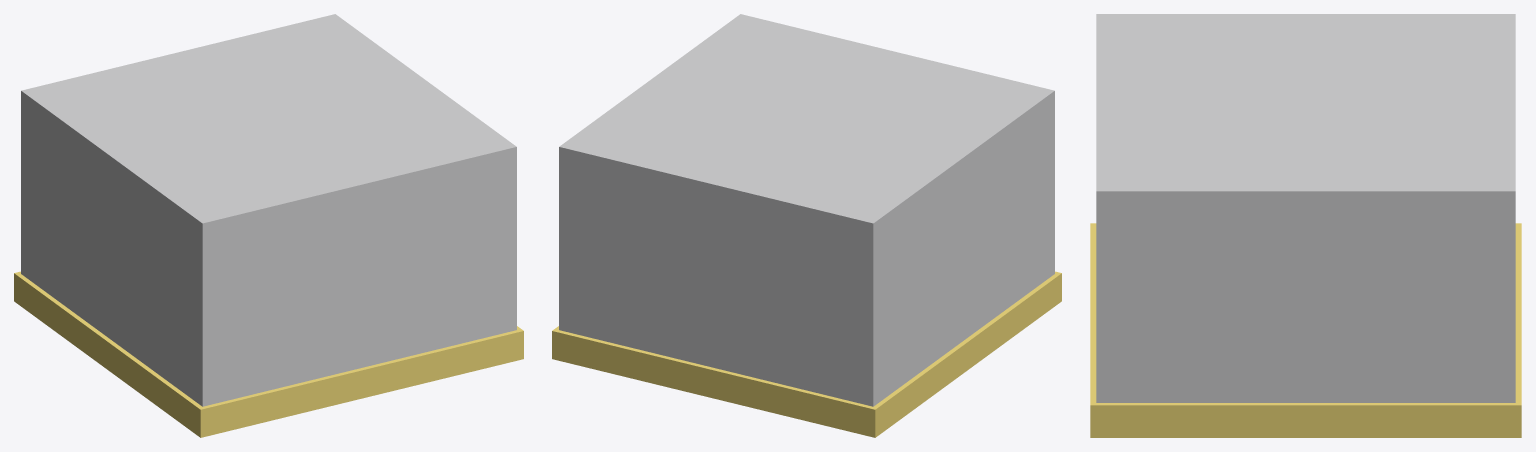
Rendered from sacerdote_manga_inf.glb.
The picture shows the model from 3 angles, left to right: view 1: azimuth 30°, elevation 25°; view 2: azimuth 150°, elevation 25°; view 3: azimuth 270°, elevation 25°; orthographic projection. The views are drawn at different scales.
Visible parts, largest first — view 1: sacerdote_manga_inf; view 2: sacerdote_manga_inf; view 3: sacerdote_manga_inf.
Part boxes in pixels (x1=…): sacerdote_manga_inf: x1=14, y1=14, x2=523, y2=437; sacerdote_manga_inf: x1=552, y1=14, x2=1061, y2=437; sacerdote_manga_inf: x1=1090, y1=14, x2=1521, y2=437.
Bounding box in the file's own units: 0.36 × 0.225 × 0.36.
